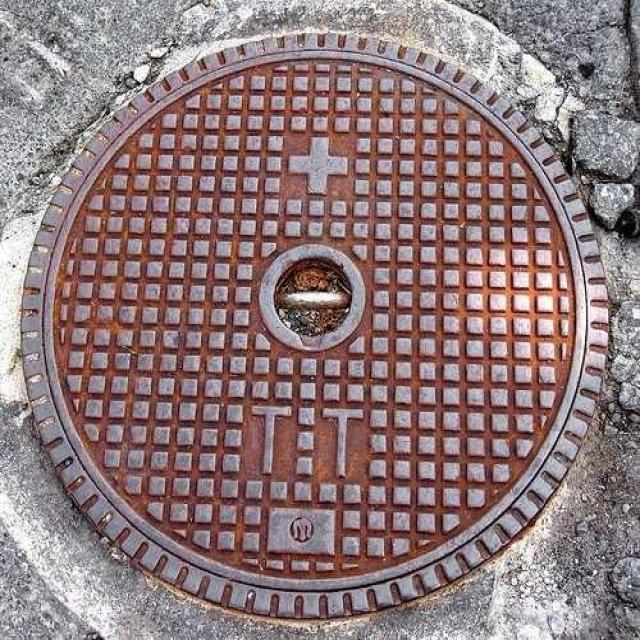manhole: (21, 32, 610, 618)
